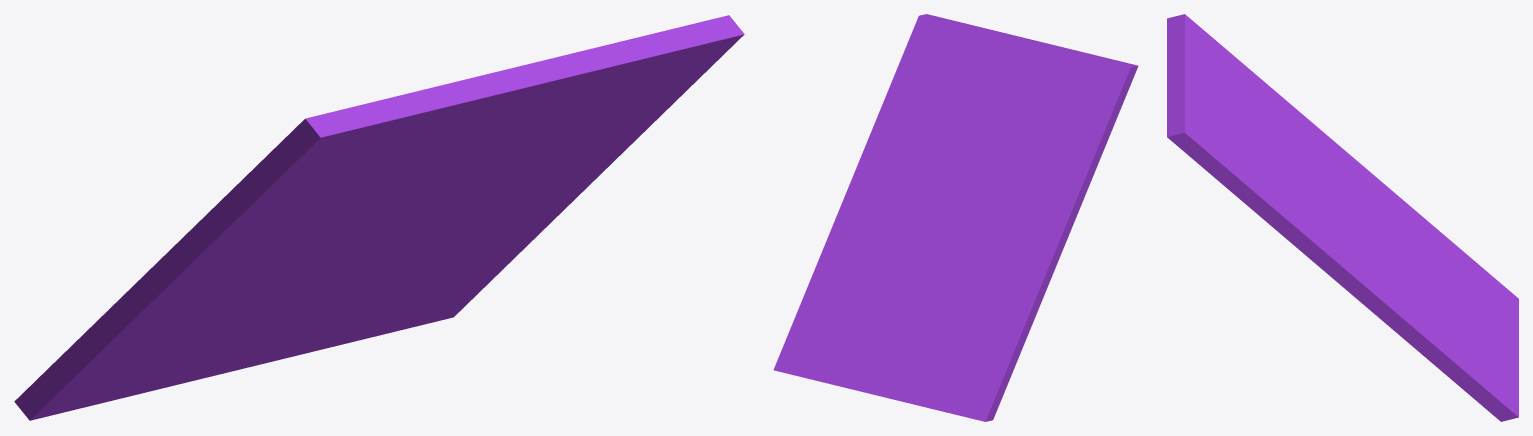
File: Window_27.fbx
3 renders of one model, left to right at view 1: azimuth 30°, elevation 25°; view 2: azimuth 150°, elevation 25°; view 3: azimuth 270°, elevation 25°, orthographic. The views are drawn at different scales.
Visible parts, largest first — view 1: Window_27; view 2: Window_27; view 3: Window_27.
Boxes of the visible parts, left/top/right/bottom form: Window_27: left=14, top=15, right=744, bottom=420; Window_27: left=773, top=14, right=1138, bottom=421; Window_27: left=1167, top=14, right=1518, bottom=421.
Bounding box in the file's own units: 1009 × 1146 × 1263.
